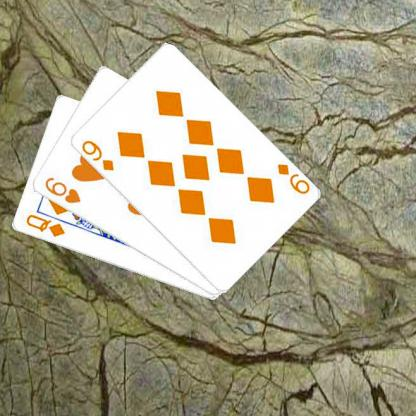6H: (41, 174, 82, 205)
9D: (78, 137, 115, 173), (274, 161, 311, 196)
QD: (23, 211, 66, 239)
